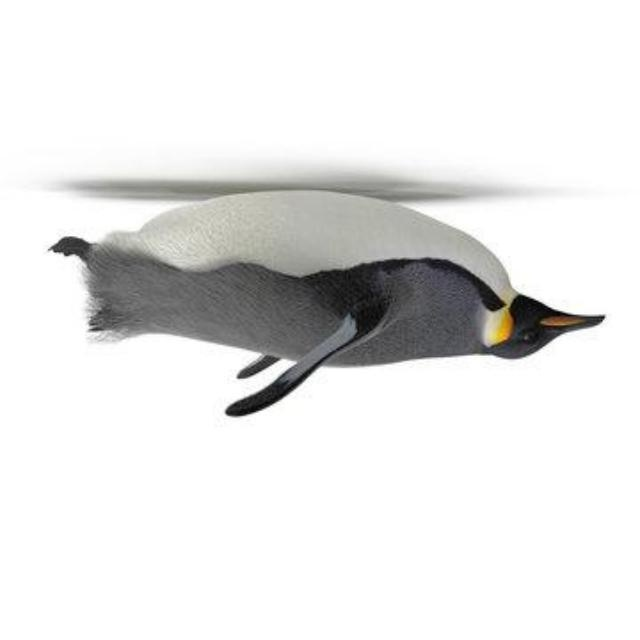penguin: (45, 185, 608, 419)
